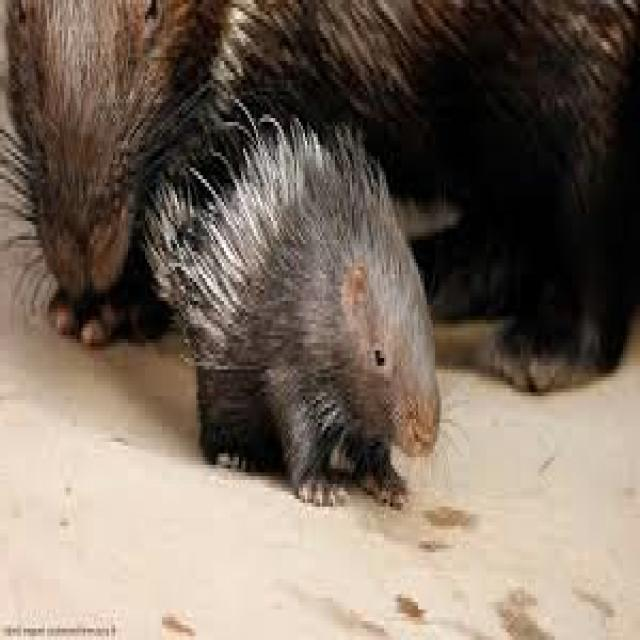porcupine: (147, 118, 439, 503)
